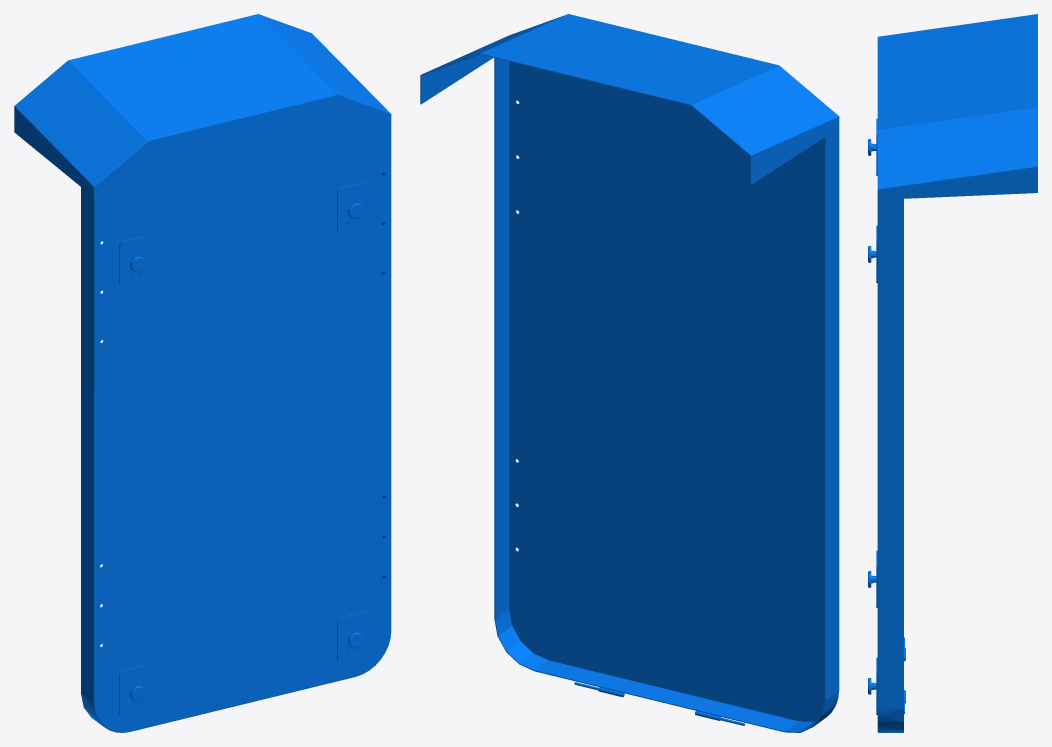
File: rambler_Chasis_vis_13.dae
The picture shows the model from 3 angles, left to right: view 1: azimuth 30°, elevation 25°; view 2: azimuth 150°, elevation 25°; view 3: azimuth 270°, elevation 25°; orthographic projection. The views are drawn at different scales.
Visible parts, largest first — view 1: Node_0x7fe0fc4d5380; view 2: Node_0x7fe0fc4d5380; view 3: Node_0x7fe0fc4d5380.
Part boxes in pixels (box(x1,y1,x2,y2)): Node_0x7fe0fc4d5380: box(14, 14, 391, 732); Node_0x7fe0fc4d5380: box(420, 14, 839, 732); Node_0x7fe0fc4d5380: box(868, 14, 1037, 732).
Bounding box in the file's own units: 0.8203 × 1.61 × 0.403.
